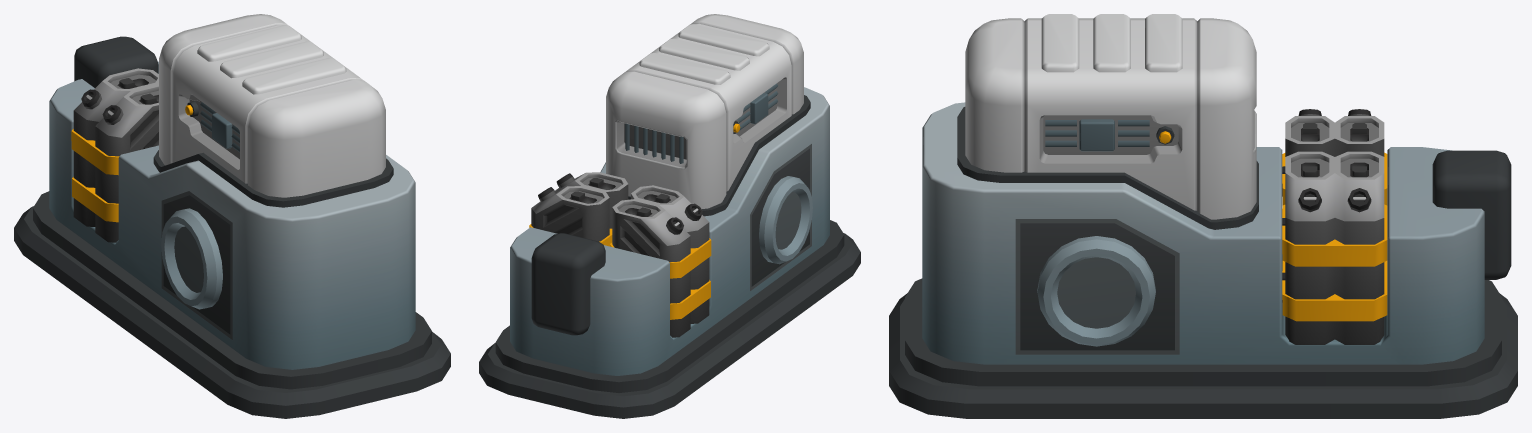
Rendered from Generator_015.fbx.
3 renders of one model, left to right at view 1: azimuth 30°, elevation 25°; view 2: azimuth 150°, elevation 25°; view 3: azimuth 270°, elevation 25°, orthographic. The views are drawn at different scales.
Visible parts, largest first — view 1: Generator_015; view 2: Generator_015; view 3: Generator_015.
Boxes of the visible parts, <box> form: Generator_015: <box>14,14,450,418</box>; Generator_015: <box>479,14,860,418</box>; Generator_015: <box>889,14,1517,418</box>.
Size of the model in its own units: 167 by 366 by 206.
